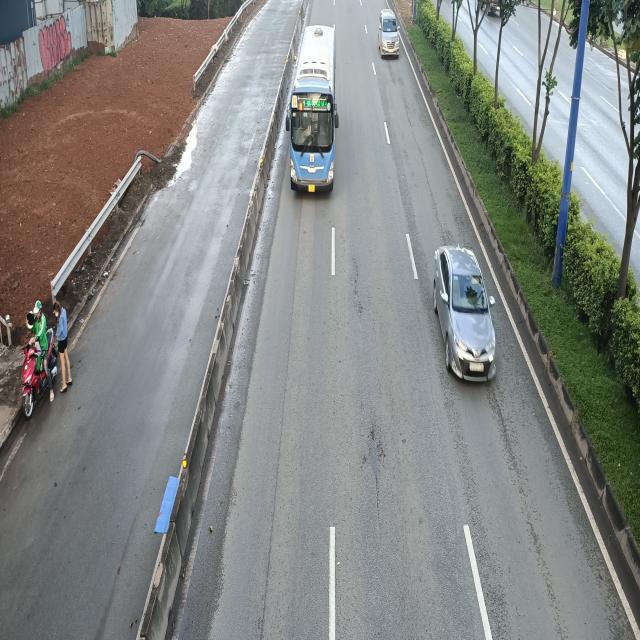car: (436, 243, 498, 382), (379, 11, 401, 58)
coach: (283, 24, 338, 196)
